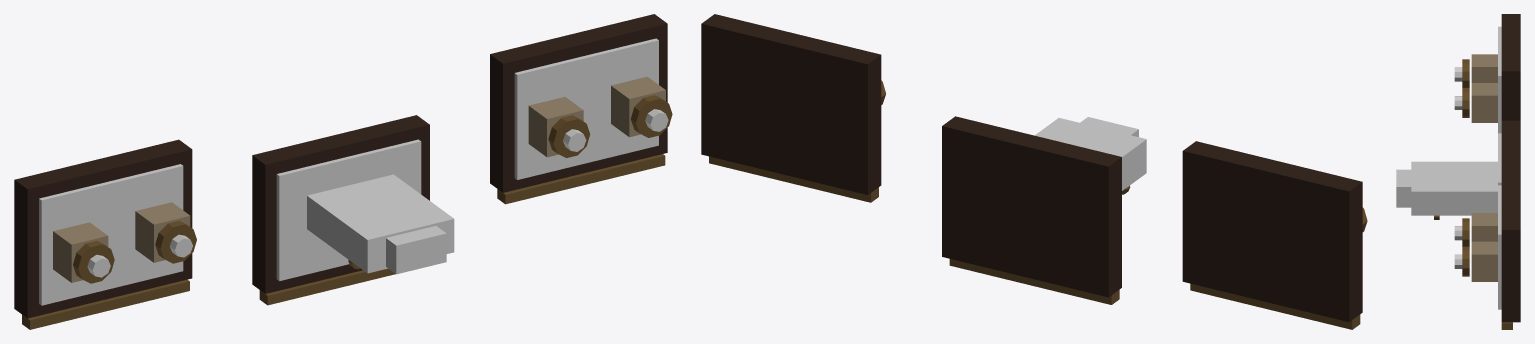
File: SM_BSW_CaseGoods_Jewelry_A.obj
3 views of the same model, side by side, from view 1: azimuth 30°, elevation 25°; view 2: azimuth 150°, elevation 25°; view 3: azimuth 270°, elevation 25° (orthographic). The views are drawn at different scales.
Visible parts, largest first — view 1: SM_BSW_CaseGoods_Jewelry_A; view 2: SM_BSW_CaseGoods_Jewelry_A; view 3: SM_BSW_CaseGoods_Jewelry_A.
Part boxes in pixels (box(x1,y1,x2,y2)): SM_BSW_CaseGoods_Jewelry_A: box(14, 14, 672, 329); SM_BSW_CaseGoods_Jewelry_A: box(701, 14, 1367, 329); SM_BSW_CaseGoods_Jewelry_A: box(1396, 14, 1520, 329).
Size of the model in its own units: 140 by 38.5 by 33.
